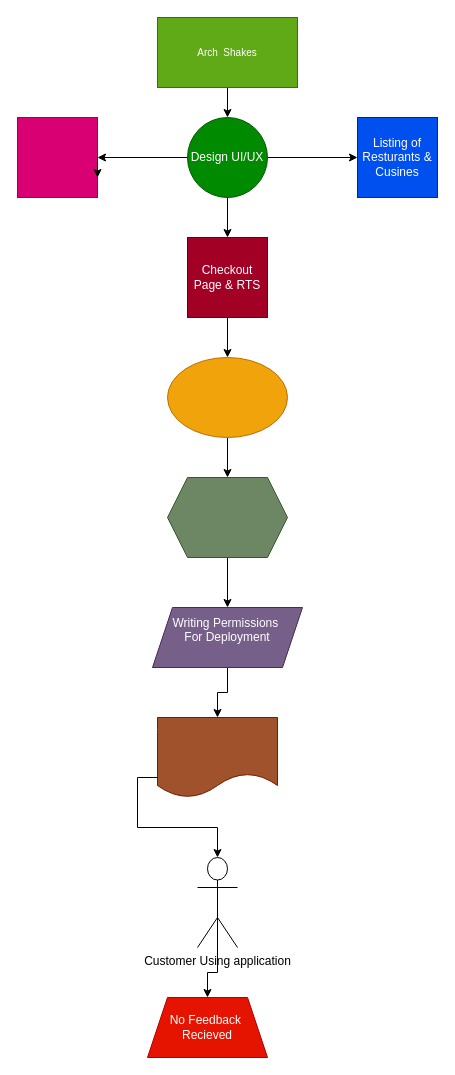
This 455x1075 diagram has some shape labels left out. Each missing label, with the box of its shape:
Compiling into apk: (166, 356, 288, 438)
Customer Sign UP/ Sign IN: (16, 116, 98, 198)
No Bugs Found: (166, 476, 288, 558)
Pushing the APK to Cloud or AppStore: (156, 716, 278, 798)
